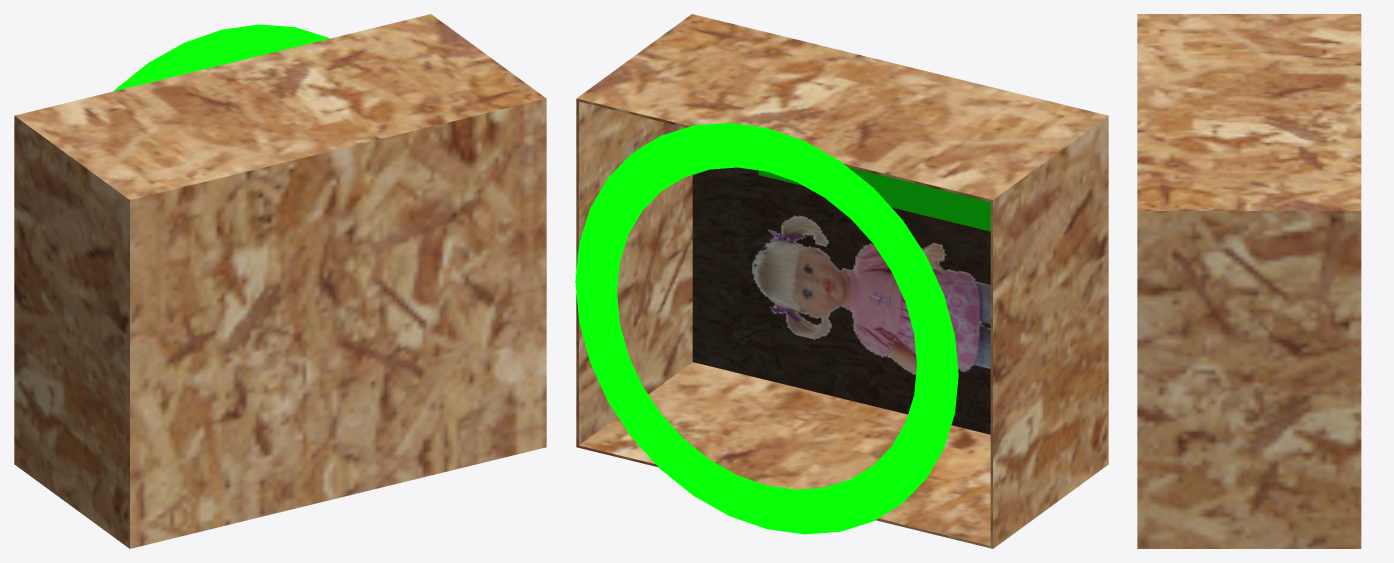
File: victim_with_box_c.dae
3 views of the same model, side by side, from view 1: azimuth 30°, elevation 25°; view 2: azimuth 150°, elevation 25°; view 3: azimuth 270°, elevation 25° (orthographic). The views are drawn at different scales.
Parts seen in each view (by area): view 1: Untitled; view 2: Untitled; view 3: Untitled.
Boxes of the visible parts, box(x1,y1,x2,y2) form: Untitled: box(14, 14, 546, 548); Untitled: box(575, 14, 1108, 548); Untitled: box(1137, 14, 1361, 548).
Bounding box in the file's own units: 0.5 × 0.2596 × 0.46.
3 materials, 2 textured.
